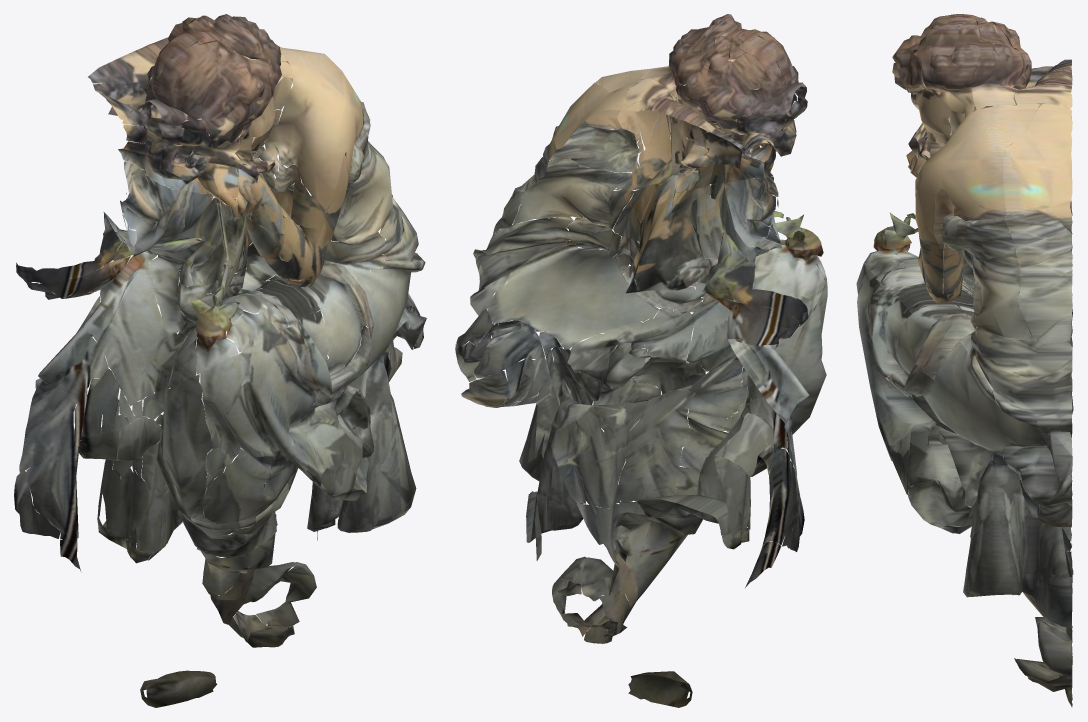
Rendered from mucha_lady_night.glb.
3 views of the same model, side by side, from view 1: azimuth 30°, elevation 25°; view 2: azimuth 150°, elevation 25°; view 3: azimuth 270°, elevation 25° (orthographic). The views are drawn at different scales.
Visible parts, largest first — view 1: jupiter_relief; view 2: jupiter_relief; view 3: jupiter_relief.
Boxes of the visible parts, x1,y1,x2,y2 form: jupiter_relief: (14, 14, 426, 707); jupiter_relief: (455, 14, 827, 707); jupiter_relief: (856, 14, 1073, 706).
Bounding box in the file's own units: 0.3663 × 0.6382 × 0.1878.
1 material, 1 textured.
